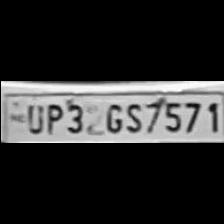1: (202, 99, 222, 133)
3: (63, 100, 85, 134)
5: (160, 99, 182, 133)
7: (182, 99, 202, 133), (142, 99, 160, 133)
G: (101, 100, 123, 134)
P: (42, 100, 62, 136)
S: (122, 100, 142, 134)
U: (22, 102, 42, 134)
